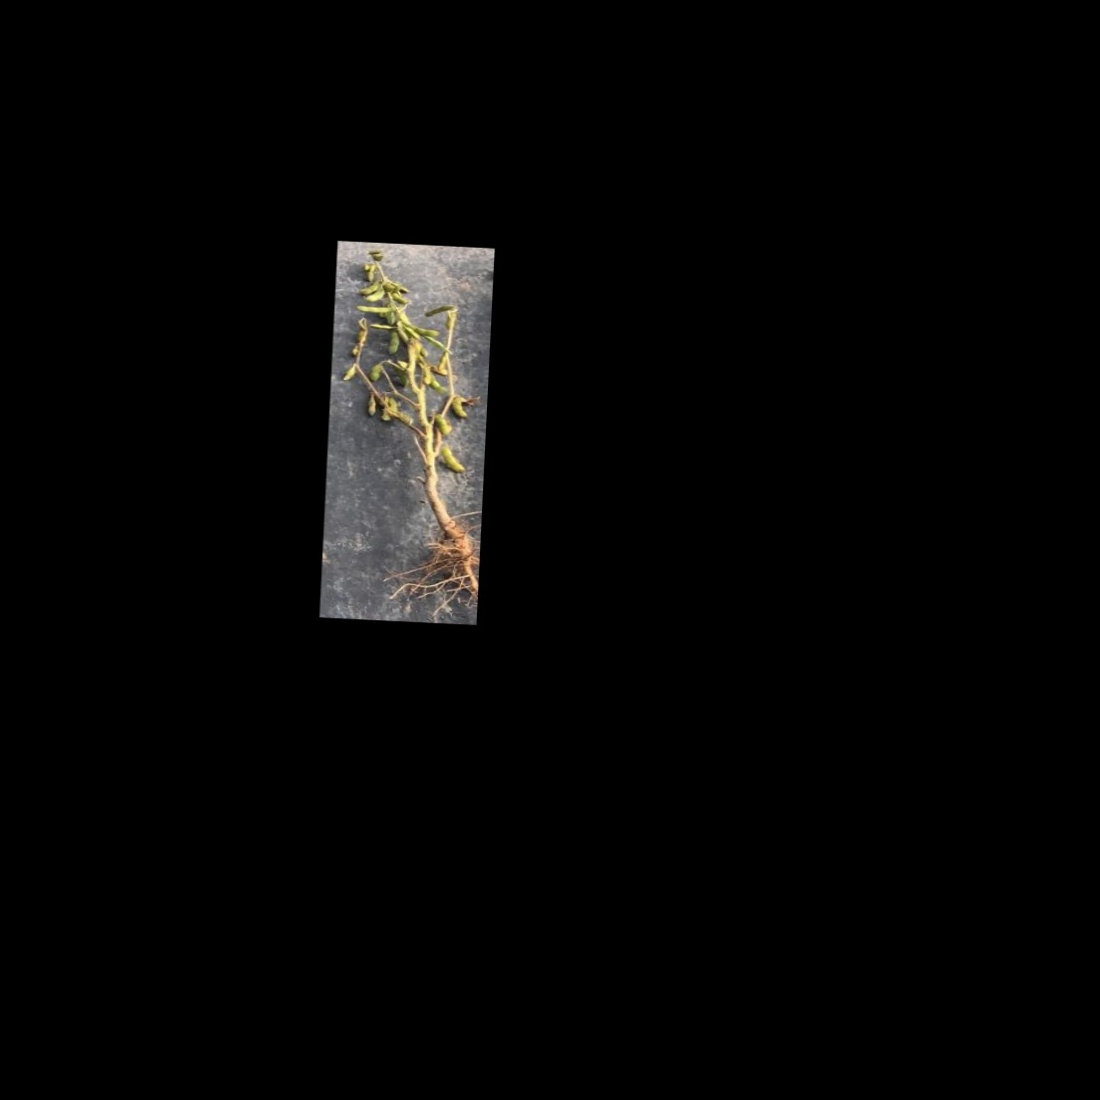pod: (439, 443, 468, 475), (353, 302, 398, 315), (423, 301, 453, 319), (449, 395, 469, 421), (409, 325, 444, 338), (360, 395, 378, 420), (383, 330, 401, 355), (338, 363, 357, 385), (366, 361, 382, 381), (365, 261, 377, 284)
soy: (326, 242, 484, 586)
